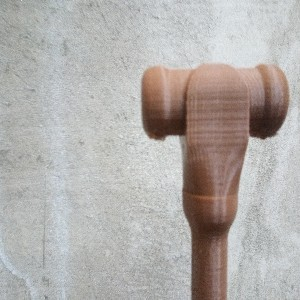palu: (140, 63, 290, 300)
